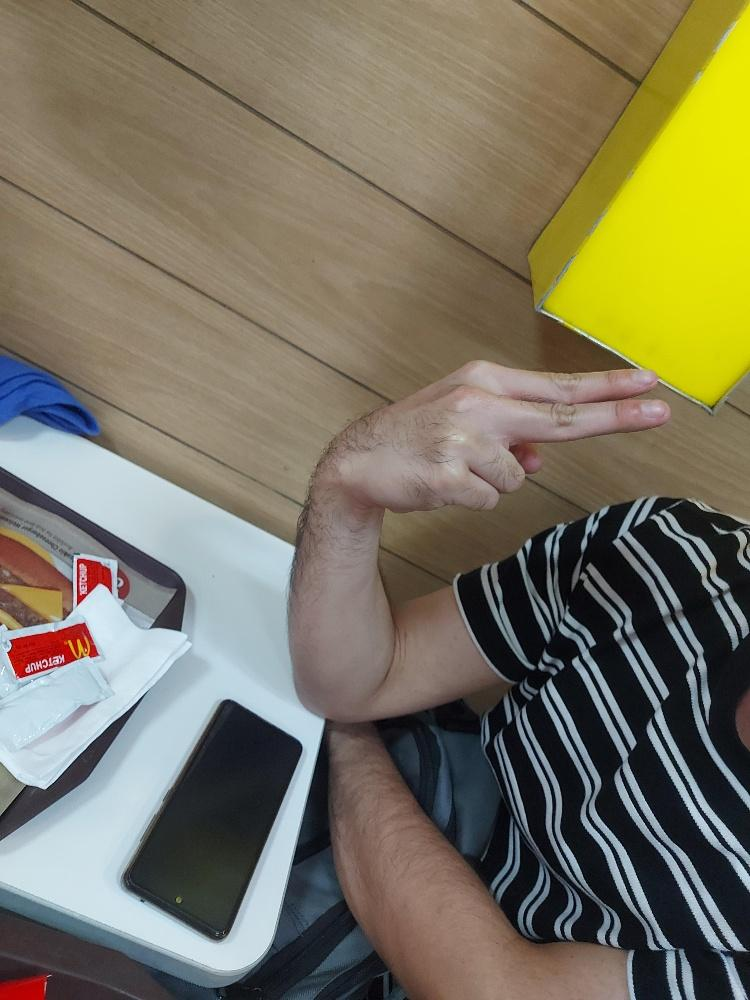h: (312, 356, 673, 516)
